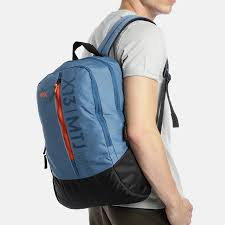backpack: (35, 14, 175, 209)
